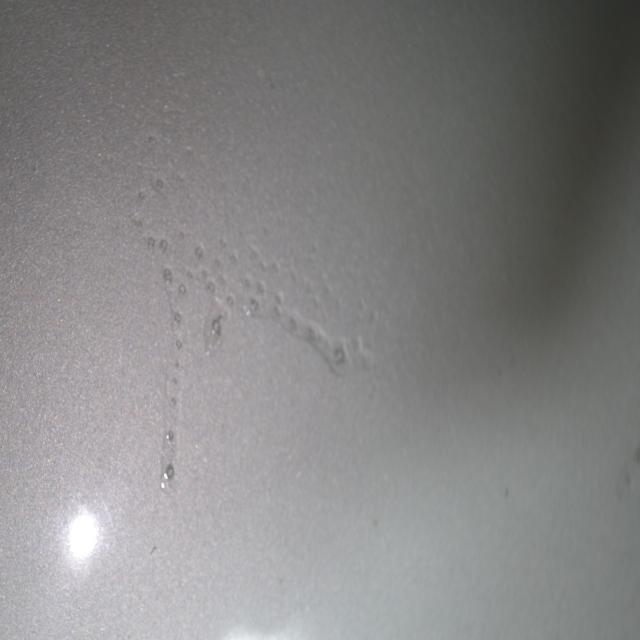runs: (133, 166, 375, 503)
